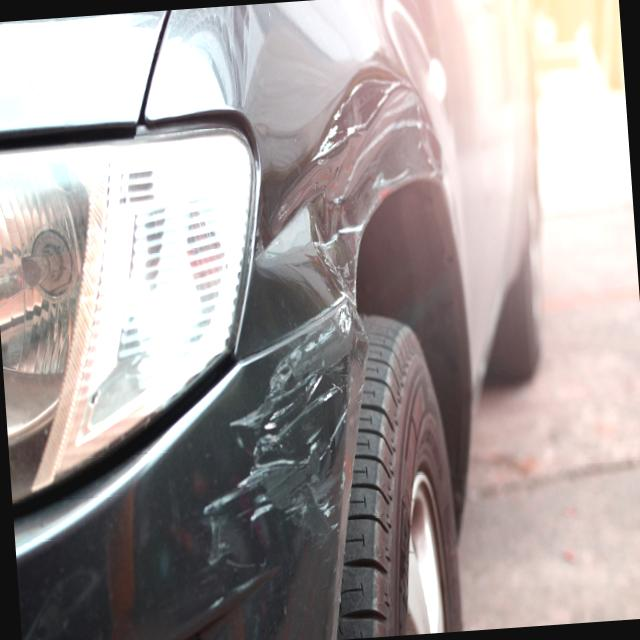Cabossage: (304, 57, 442, 297)
Rayure: (188, 321, 381, 631)
